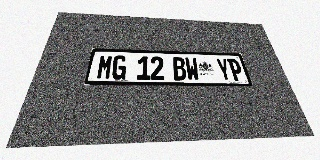1: (137, 56, 150, 80)
2: (151, 56, 164, 80)
B: (172, 57, 187, 80)
G: (111, 55, 127, 80)
M: (96, 55, 113, 80)
P: (227, 59, 245, 81)
W: (184, 57, 200, 81)
Y: (215, 58, 233, 81)
